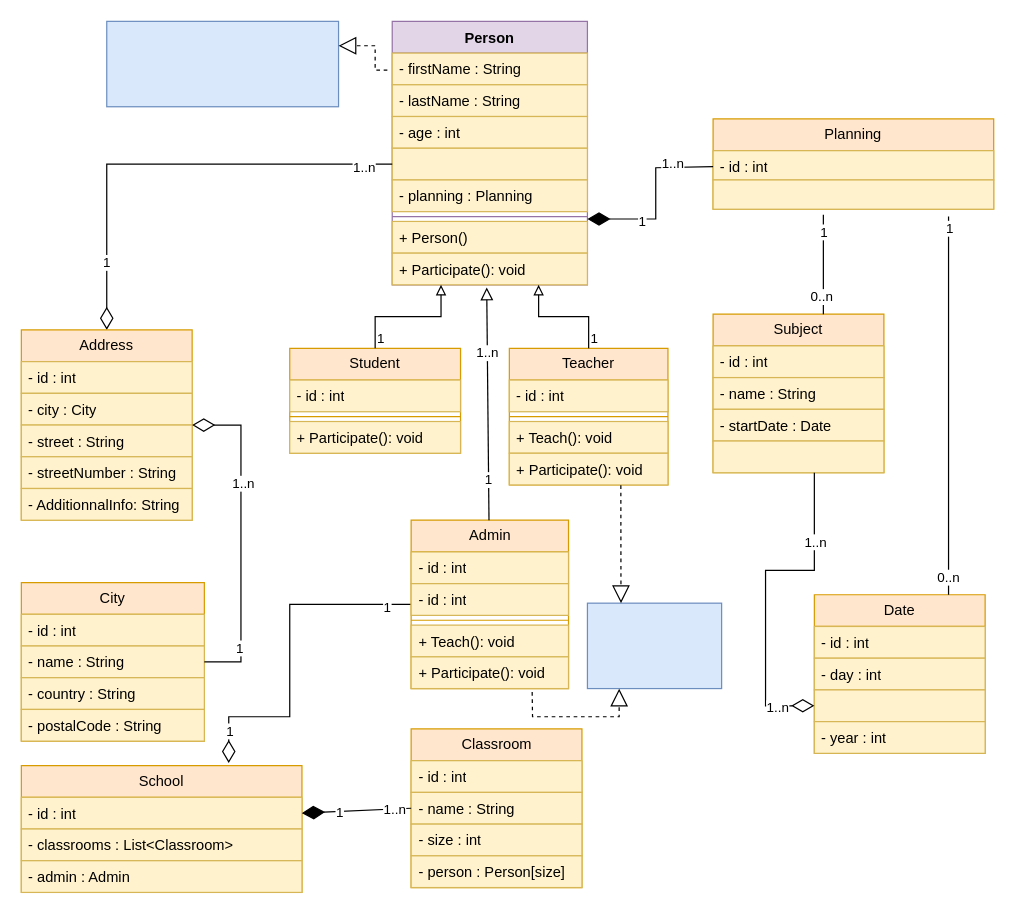
The diagram is 1015 pixels wide and 917 high, and some of its shapes have lost their labels. The shapes that lost their labels are listed below. From the top down, each one's centre as x and y in pixels, then its label:
At pixel 222 63: "<<Interface>> IParticipable + Participate(): void".
At pixel 489 163: "- address : Address".
At pixel 853 194: "- planning : Collection<Date, Subject>".
At pixel 798 456: "- endDate : Date".
At pixel 654 645: "<<Interface>> ITeacher + Teach(): void".
At pixel 899 705: "- month : String".
